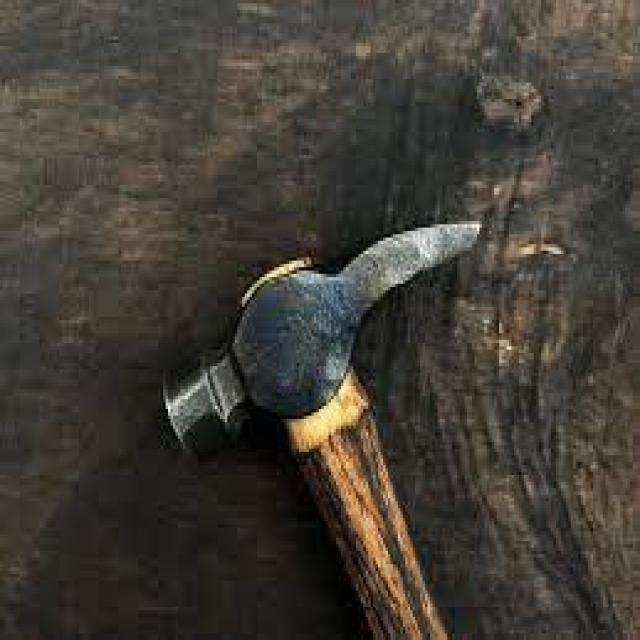hammer: (157, 215, 490, 640)
